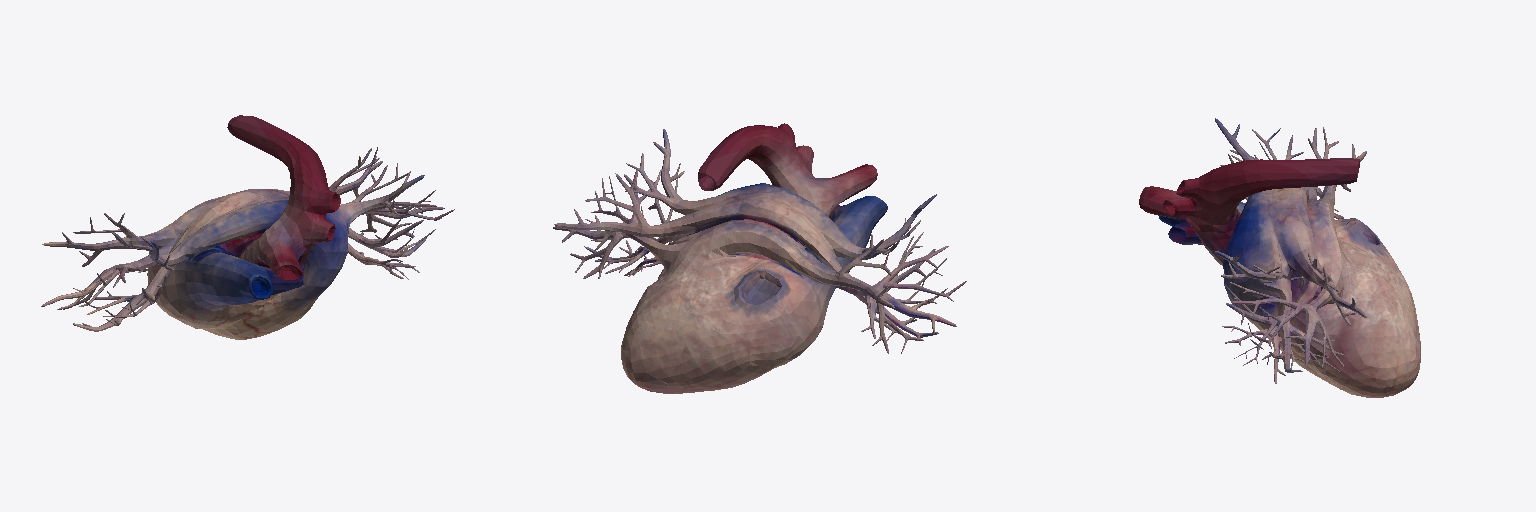
3 renders of one model, left to right at view 1: azimuth 30°, elevation 25°; view 2: azimuth 150°, elevation 25°; view 3: azimuth 270°, elevation 25°, orthographic.
Visible parts, largest first — view 1: Object__0; view 2: Object__0; view 3: Object__0.
Part boxes in pixels (x1,y1,x2,y2): Object__0: (41,115,454,339); Object__0: (553,123,966,393); Object__0: (1139,118,1420,397).
Bounding box in the file's own units: 0.2164 × 0.1135 × 0.1307.
9 materials, 1 textured.